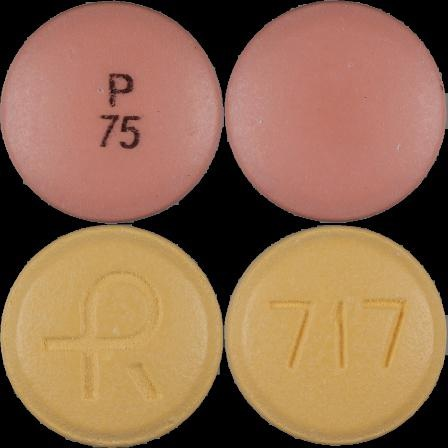50436-6924: (0, 0, 224, 224)
